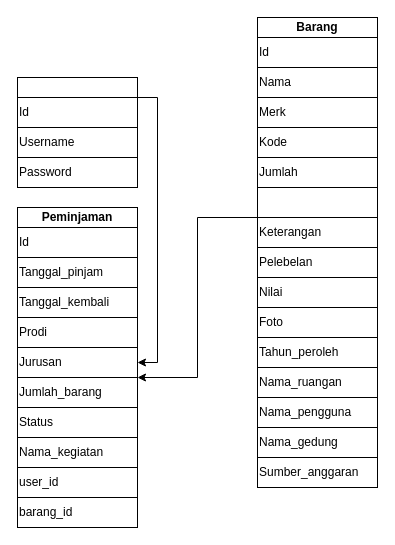
Some shapes in this 395 by 545 pixel diagram are drawn without their labels. The centre of each missing label's shape, as x and y in pixels:
Kondisi: the point at 317,202
User: the point at 77,87
